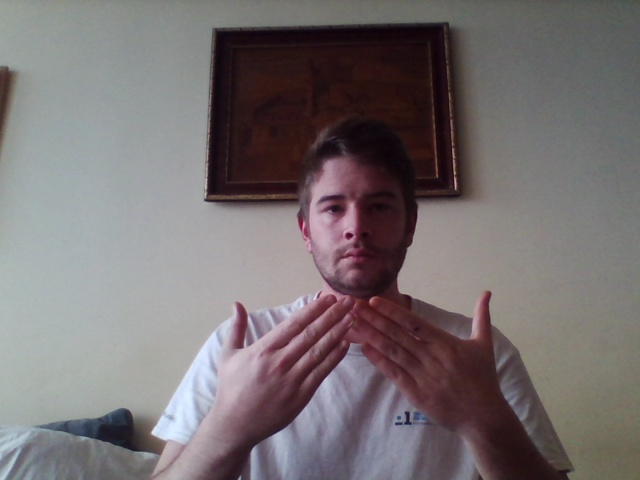hvala: (217, 288, 495, 430)
